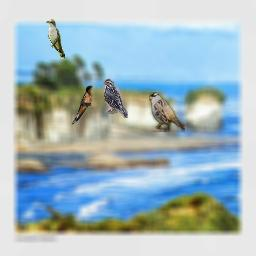Cuckoo: (46, 19, 65, 59)
Sparrow: (149, 92, 185, 132), (102, 78, 128, 118)
Swallow: (71, 85, 93, 125)
